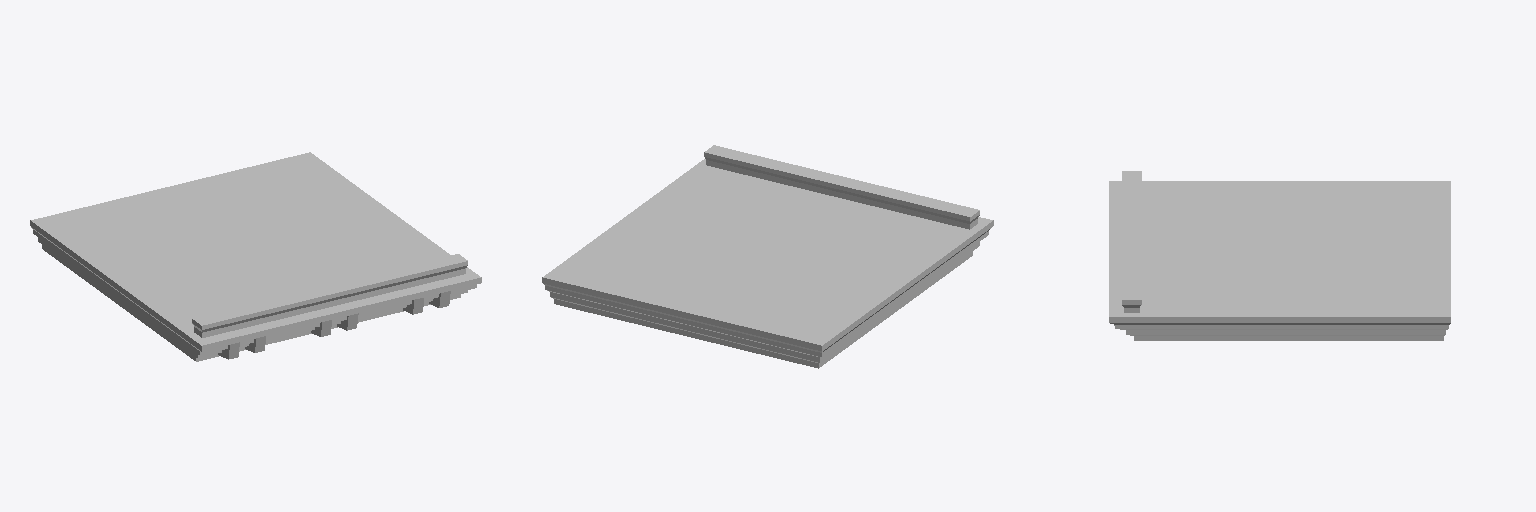
Rendered from apartment_roof_3.obj.
3 renders of one model, left to right at view 1: azimuth 30°, elevation 25°; view 2: azimuth 150°, elevation 25°; view 3: azimuth 270°, elevation 25°, orthographic.
Parts seen in each view (by area): view 1: SM_Bld_Apartment_Roof_03_Mesh.015; view 2: SM_Bld_Apartment_Roof_03_Mesh.015; view 3: SM_Bld_Apartment_Roof_03_Mesh.015.
Boxes of the visible parts, x1,y1,x2,y2 form: SM_Bld_Apartment_Roof_03_Mesh.015: [30, 152, 481, 361]; SM_Bld_Apartment_Roof_03_Mesh.015: [542, 145, 993, 368]; SM_Bld_Apartment_Roof_03_Mesh.015: [1109, 171, 1450, 340].
Bounding box in the file's own units: 5.31 × 0.7435 × 5.62.